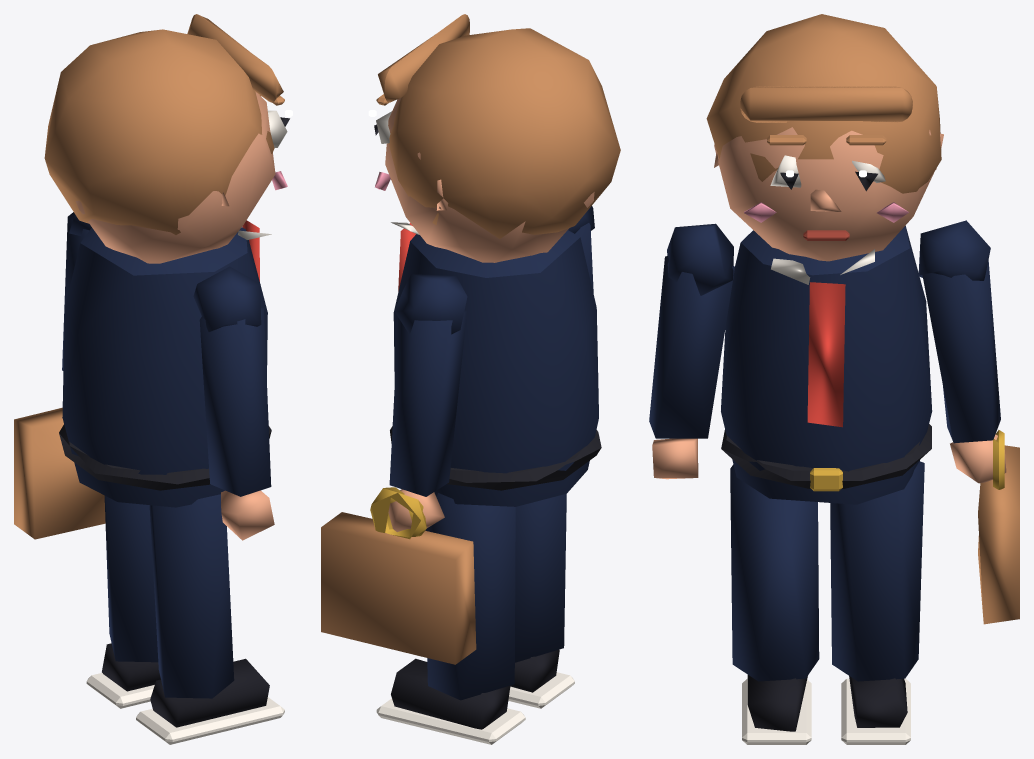
Rendered from ped_business.glb.
3 renders of one model, left to right at view 1: azimuth 30°, elevation 25°; view 2: azimuth 150°, elevation 25°; view 3: azimuth 270°, elevation 25°, orthographic.
Parts seen in each view (by area): view 1: ped_business; view 2: ped_business; view 3: ped_business.
Boxes of the visible parts, <box> form: ped_business: <box>14,14,292,744</box>; ped_business: <box>321,14,620,744</box>; ped_business: <box>649,14,1019,744</box>.
Size of the model in its own units: 0.462 by 1.37 by 0.6822.
1 material, 1 textured.
